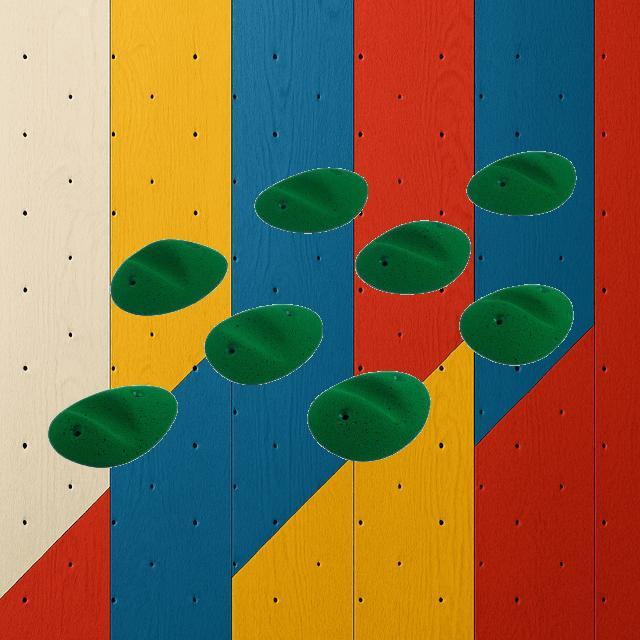Sloper: (306, 370, 430, 462), (46, 384, 178, 468), (203, 302, 323, 383), (457, 283, 573, 365), (110, 237, 228, 315), (354, 219, 472, 293), (254, 166, 368, 232), (466, 150, 576, 216)
